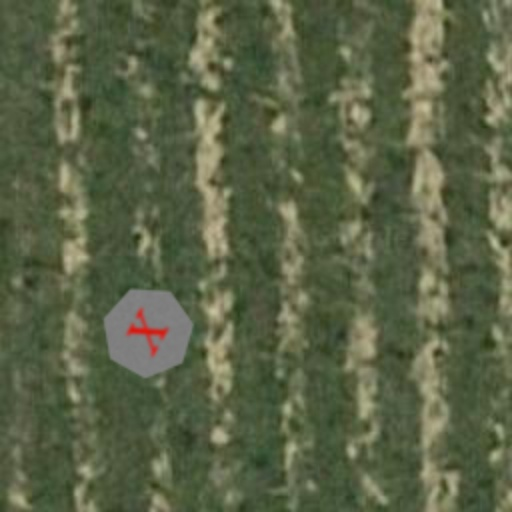heptagon: (84, 268, 212, 396)
